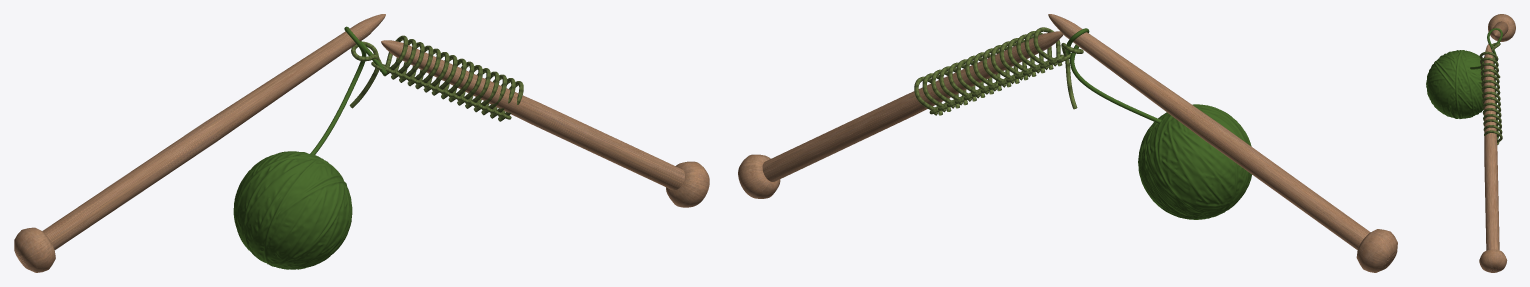
The model's file is knit4.glb.
The picture shows the model from 3 angles, left to right: view 1: azimuth 30°, elevation 25°; view 2: azimuth 150°, elevation 25°; view 3: azimuth 270°, elevation 25°; orthographic projection. The views are drawn at different scales.
Visible parts, largest first — view 1: SM_Globe6HD_retopo_blinn2_0_4, niddle.001, niddle, topring.016, topring.015; view 2: niddle.001, SM_Globe6HD_retopo_blinn2_0_4, niddle, topring.016, topring.015; view 3: SM_Globe6HD_retopo_blinn2_0_4, niddle, niddle.001, topring.016, topring.014, topring, topring.013, topring.011, topring.005, topring.012, topring.007, topring.008 (+7 smaller).
Part boxes in pixels (bbox=[...]): SM_Globe6HD_retopo_blinn2_0_4: bbox=[233, 151, 352, 269]; niddle.001: bbox=[14, 14, 385, 272]; niddle: bbox=[381, 40, 709, 207]; topring.016: bbox=[310, 26, 386, 154]; topring.015: bbox=[349, 41, 383, 108]; niddle.001: bbox=[1048, 14, 1397, 272]; SM_Globe6HD_retopo_blinn2_0_4: bbox=[1138, 104, 1251, 219]; niddle: bbox=[738, 31, 1063, 198]; topring.016: bbox=[1066, 28, 1161, 123]; topring.015: bbox=[1061, 43, 1083, 109]; SM_Globe6HD_retopo_blinn2_0_4: bbox=[1426, 50, 1483, 118]; niddle: bbox=[1479, 44, 1507, 272]; niddle.001: bbox=[1488, 14, 1515, 41]; topring.016: bbox=[1470, 28, 1502, 69]; topring.014: bbox=[1479, 51, 1498, 63]; topring: bbox=[1484, 130, 1502, 142]; topring.013: bbox=[1480, 57, 1498, 69]; topring.011: bbox=[1480, 69, 1499, 80]; topring.005: bbox=[1482, 102, 1500, 114]; topring.012: bbox=[1480, 63, 1498, 74]; topring.007: bbox=[1482, 91, 1500, 103]; topring.008: bbox=[1481, 85, 1500, 97].
Bounding box in the file's own units: 6.8 × 2.52 × 1.34.
3 materials, 2 textured.
